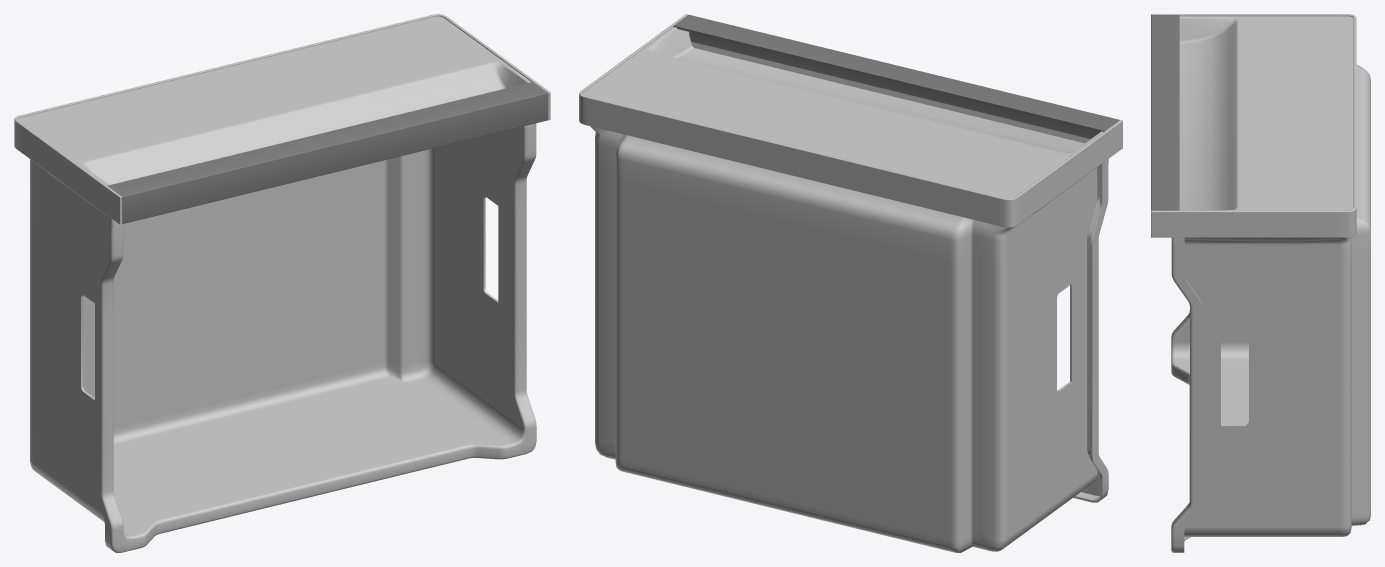
File: SM_Fridge_Drawer_03.obj
3 renders of one model, left to right at view 1: azimuth 30°, elevation 25°; view 2: azimuth 150°, elevation 25°; view 3: azimuth 270°, elevation 25°, orthographic. The views are drawn at different scales.
Parts seen in each view (by area): view 1: SM_Fridge_Drawer_03; view 2: SM_Fridge_Drawer_03; view 3: SM_Fridge_Drawer_03.
Boxes of the visible parts, x1=… form: SM_Fridge_Drawer_03: x1=14, y1=14, x2=550, y2=552; SM_Fridge_Drawer_03: x1=579, y1=14, x2=1122, y2=552; SM_Fridge_Drawer_03: x1=1151, y1=14, x2=1370, y2=552.
Bounding box in the file's own units: 0.409 × 0.333 × 0.192.
Materials: 3 (1 with a texture image).
